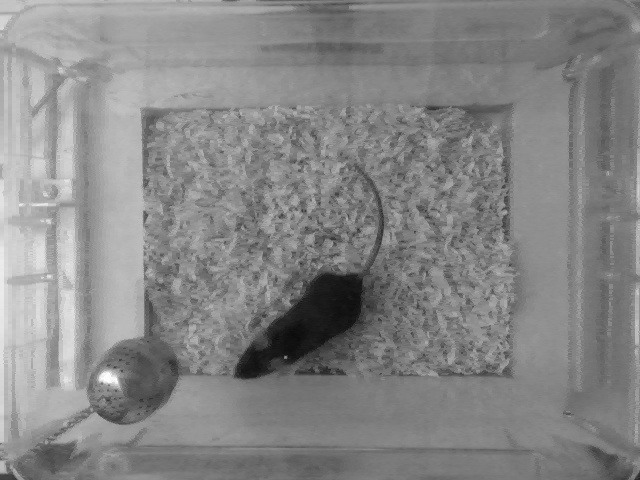mice: (227, 158, 387, 385)
